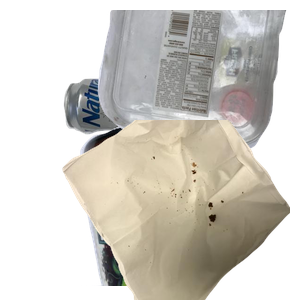glass: (78, 120, 281, 300)
metal: (61, 75, 231, 202)
plastic: (95, 10, 300, 154)
trash: (60, 120, 300, 300)
